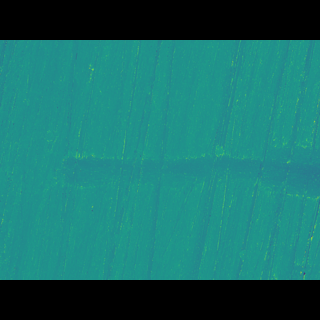Loch: (54, 145, 319, 190)
